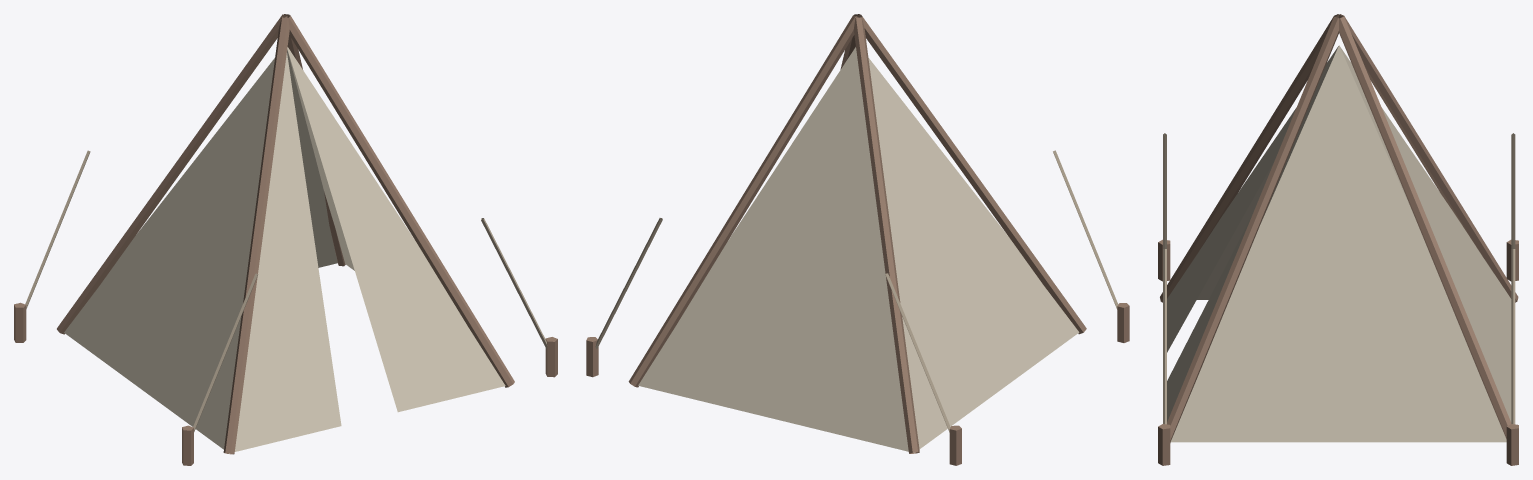
3 views of the same model, side by side, from view 1: azimuth 30°, elevation 25°; view 2: azimuth 150°, elevation 25°; view 3: azimuth 270°, elevation 25° (orthographic). The views are drawn at different scales.
Visible parts, largest first — view 1: C03; view 2: C03; view 3: C03.
Boxes of the visible parts, x1,y1,x2,y2 form: C03: (14, 14, 557, 465); C03: (586, 14, 1129, 465); C03: (1158, 14, 1518, 465).
Size of the model in its own units: 2 by 1.75 by 1.6.
